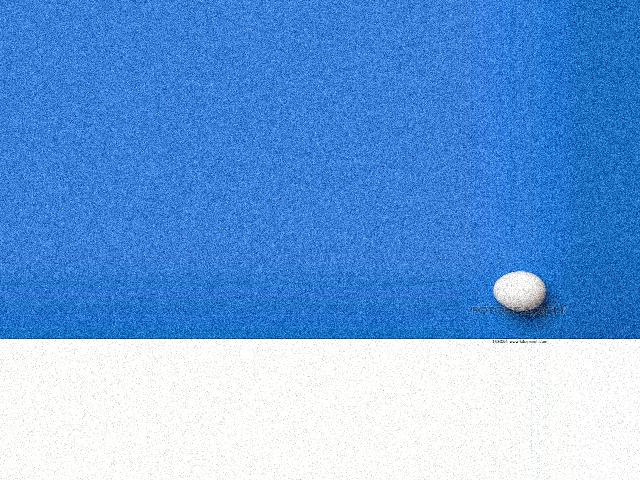egg: (493, 271, 546, 312)
